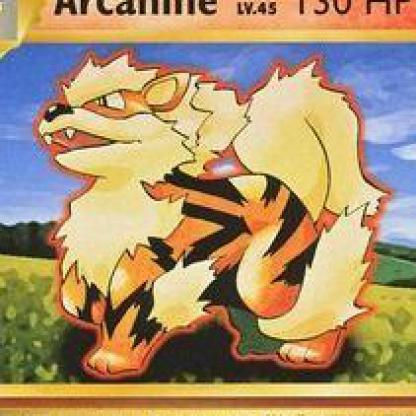Arcanine: (26, 65, 384, 377)
